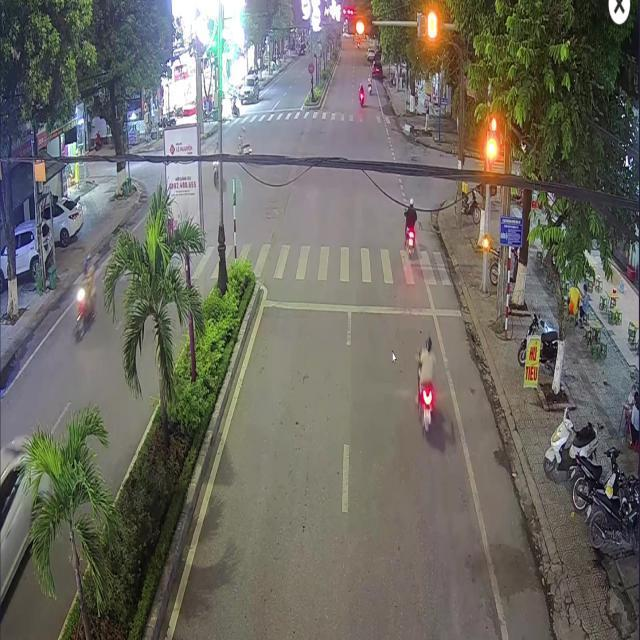motobike: (415, 373, 434, 433), (404, 226, 415, 257)
stop_line: (263, 299, 463, 316)
yellow_light: (345, 17, 372, 35), (486, 133, 495, 167), (483, 232, 487, 251)
